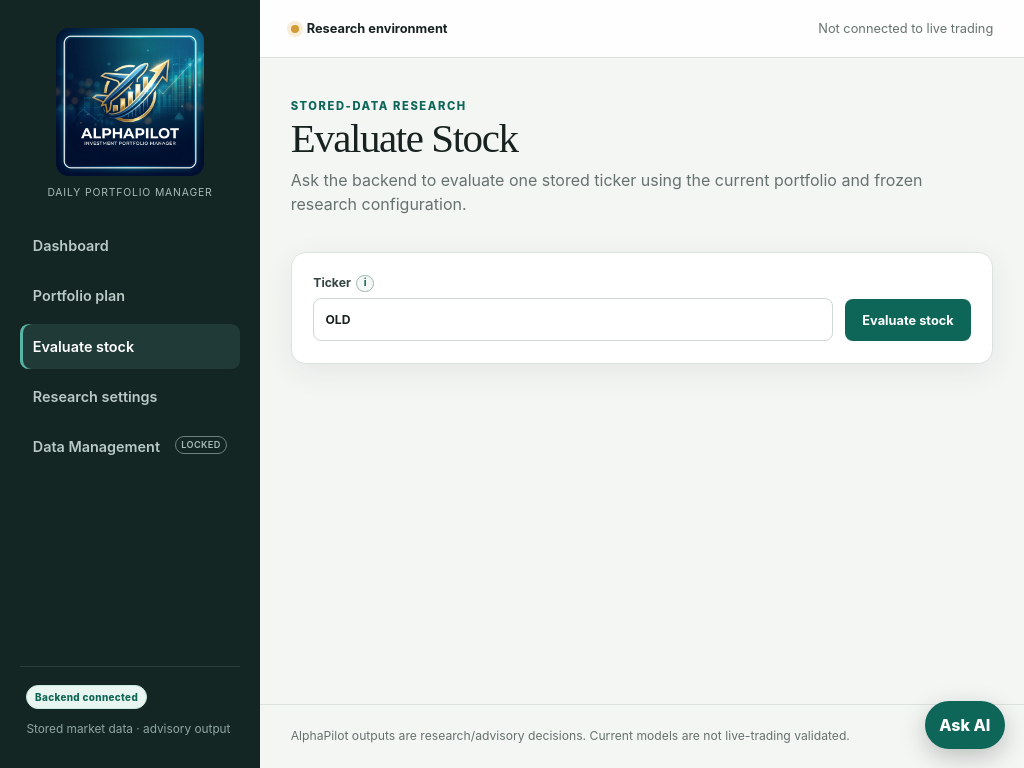
Test: STALE_DATA is shown as a deterministic data outcome
The image size is (1024, 768).
Click the button "Evaluate stock". click: {"x": 908, "y": 320}
box: [845,299,971,341]
(page scrolled)
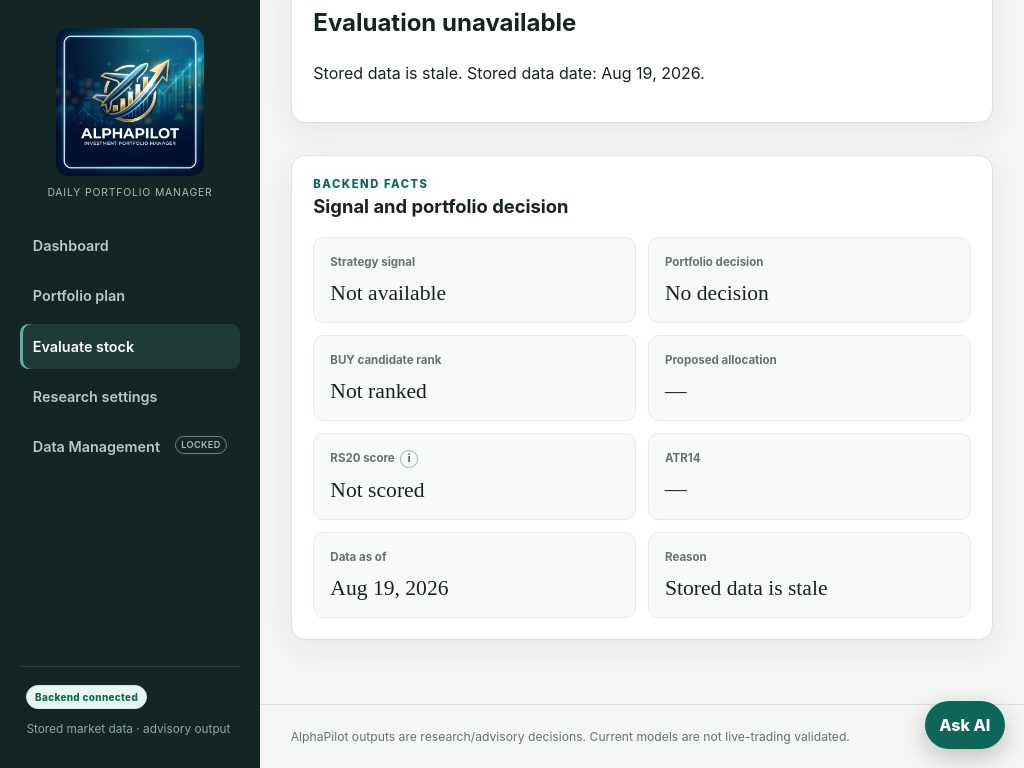
Now the heading "Evaluation unavailable" is shown, box [313,8,576,37]
Now the text "Aug 19, 2026" is shown, box [330,576,448,600]
